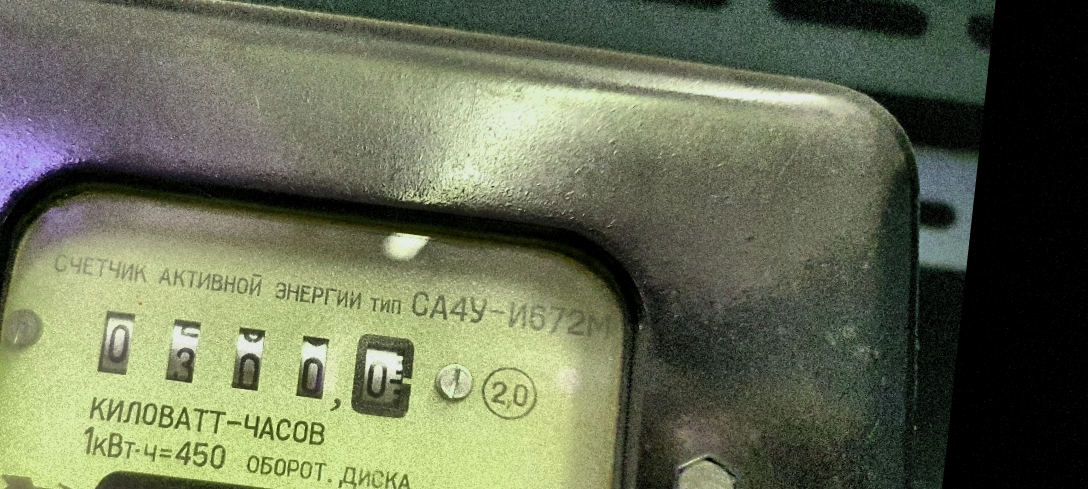0: (104, 318, 132, 367), (297, 353, 326, 399), (361, 356, 390, 401), (233, 348, 261, 392)
3: (169, 343, 196, 384)
screen: (73, 285, 437, 437)
